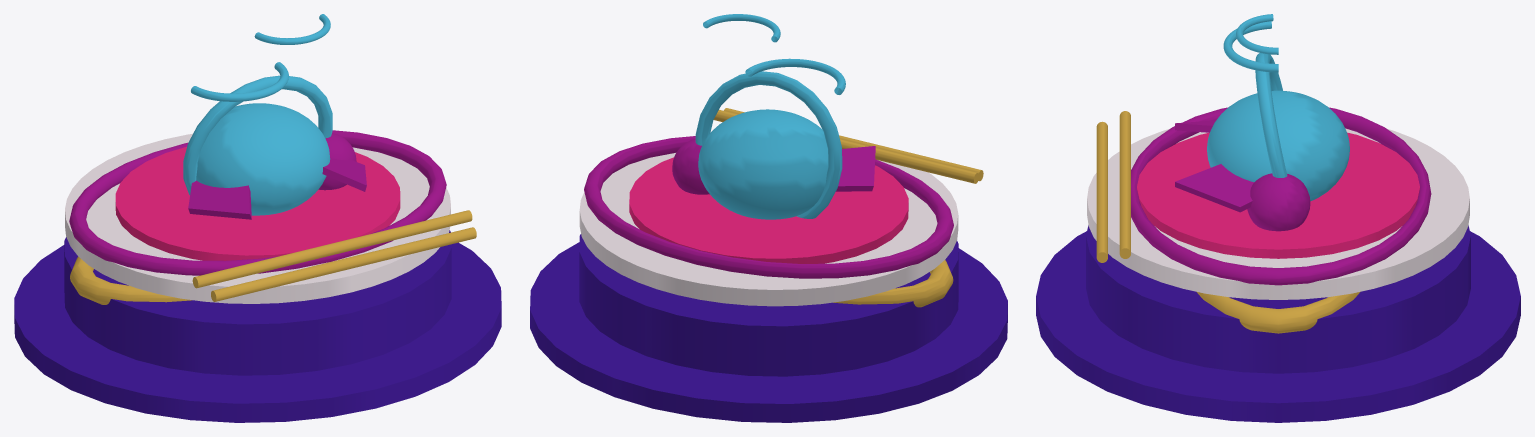
File: 0315_揭秘食物图鉴_胡商俑.glb
3 renders of one model, left to right at view 1: azimuth 30°, elevation 25°; view 2: azimuth 150°, elevation 25°; view 3: azimuth 270°, elevation 25°, orthographic. The views are drawn at different scales.
Parts seen in each view (by area): view 1: card_0315; view 2: card_0315; view 3: card_0315.
Part boxes in pixels (bbox=[...]): card_0315: bbox=[14, 14, 501, 422]; card_0315: bbox=[530, 14, 1007, 422]; card_0315: bbox=[1036, 14, 1520, 422].
Bounding box in the file's own units: 1.53 × 1 × 1.46.
